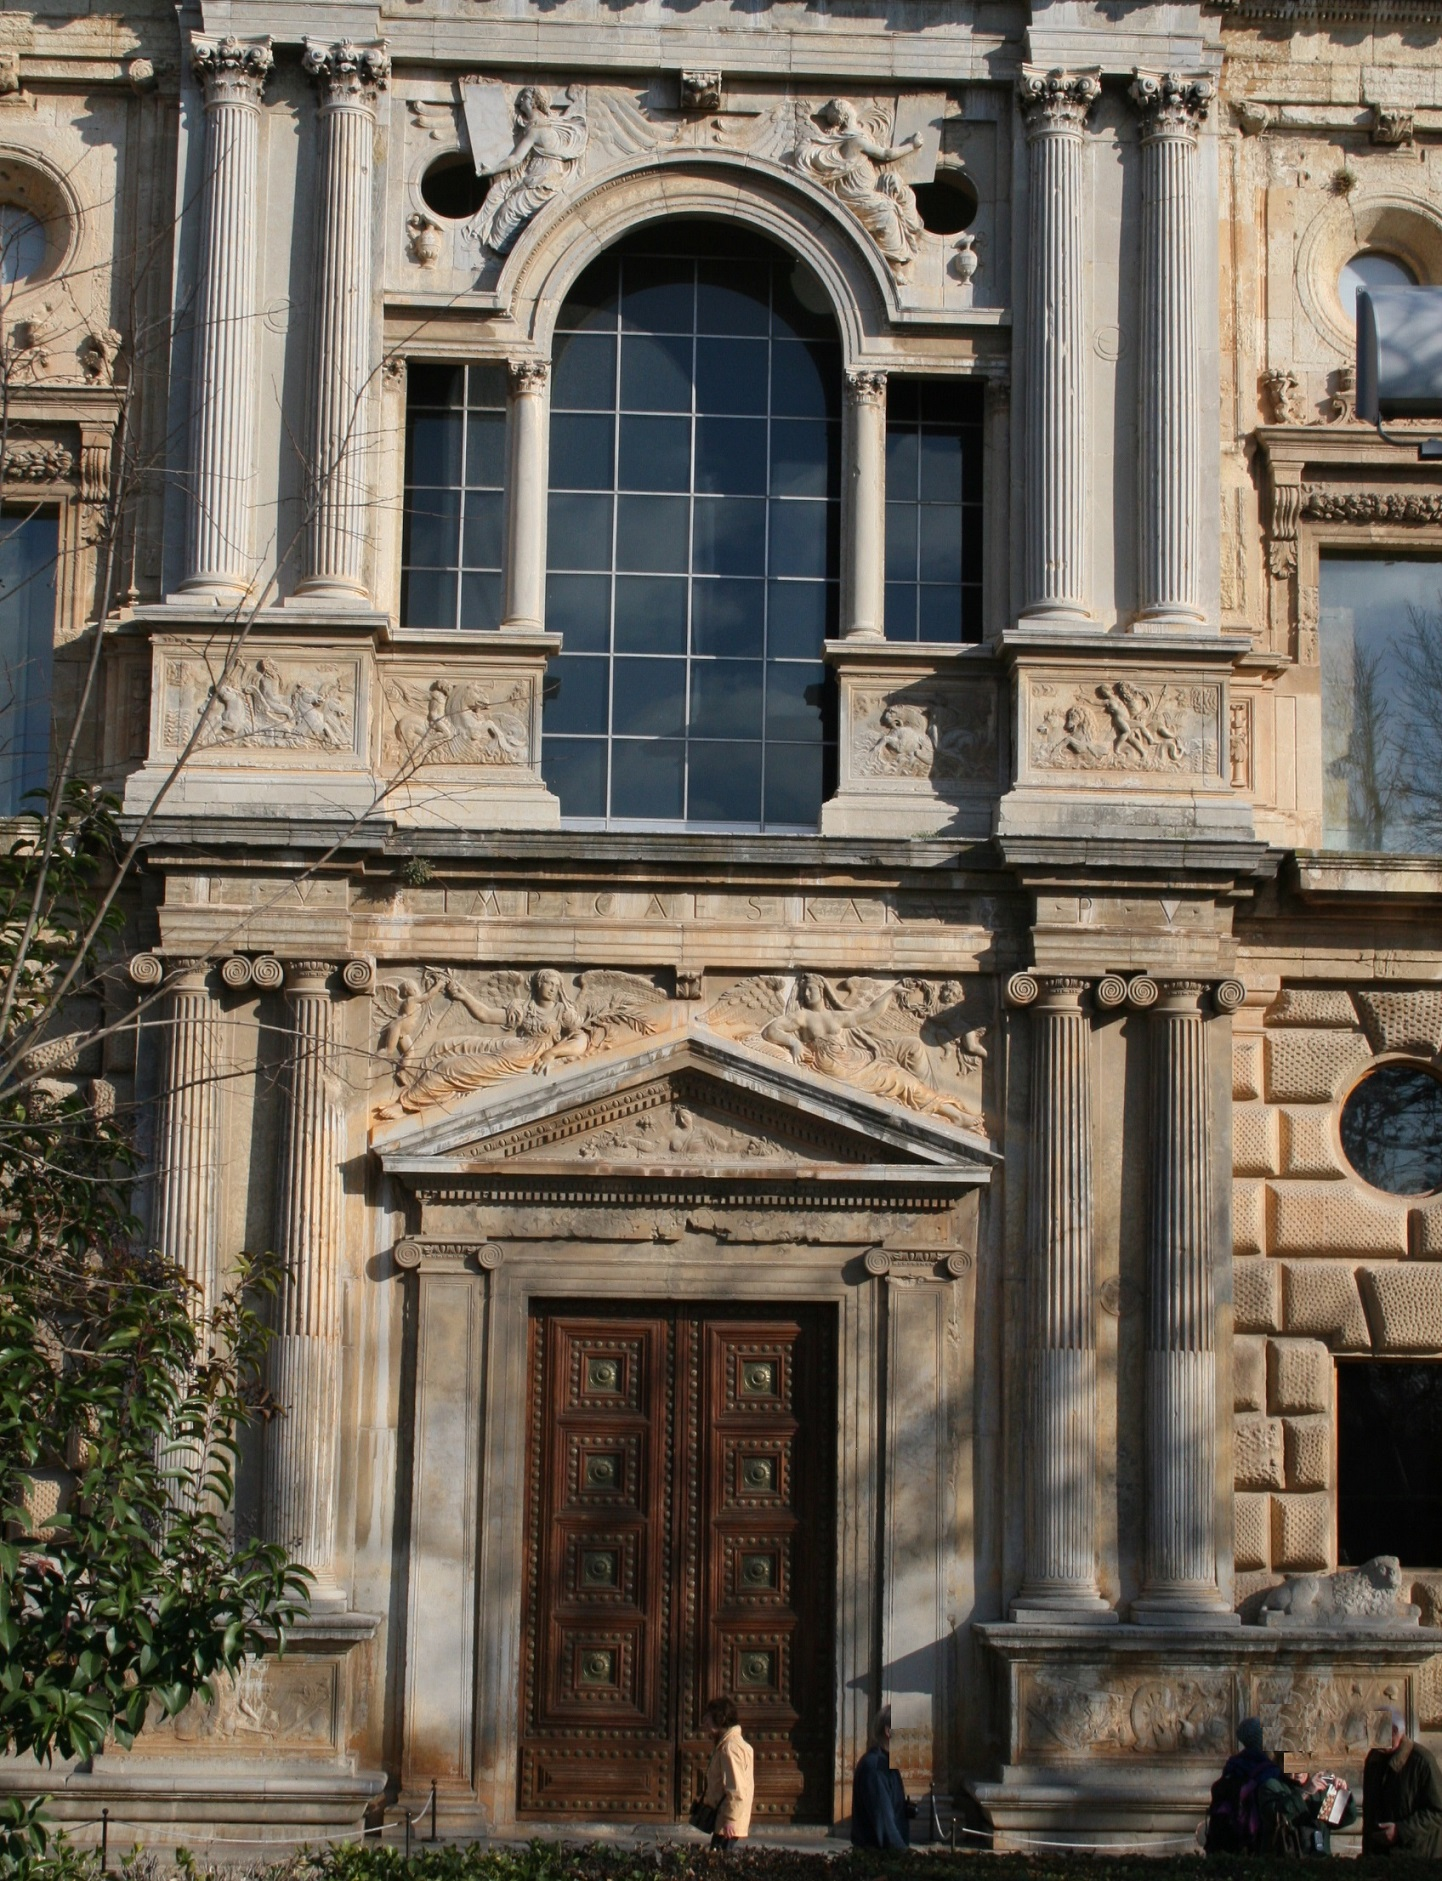fronton: (360, 1019, 1019, 1218)
ojo-de-buey: (1312, 1042, 1442, 1212), (1301, 183, 1442, 336)
serliana: (362, 142, 998, 666)
vano-adintelado: (447, 1245, 925, 1833)
